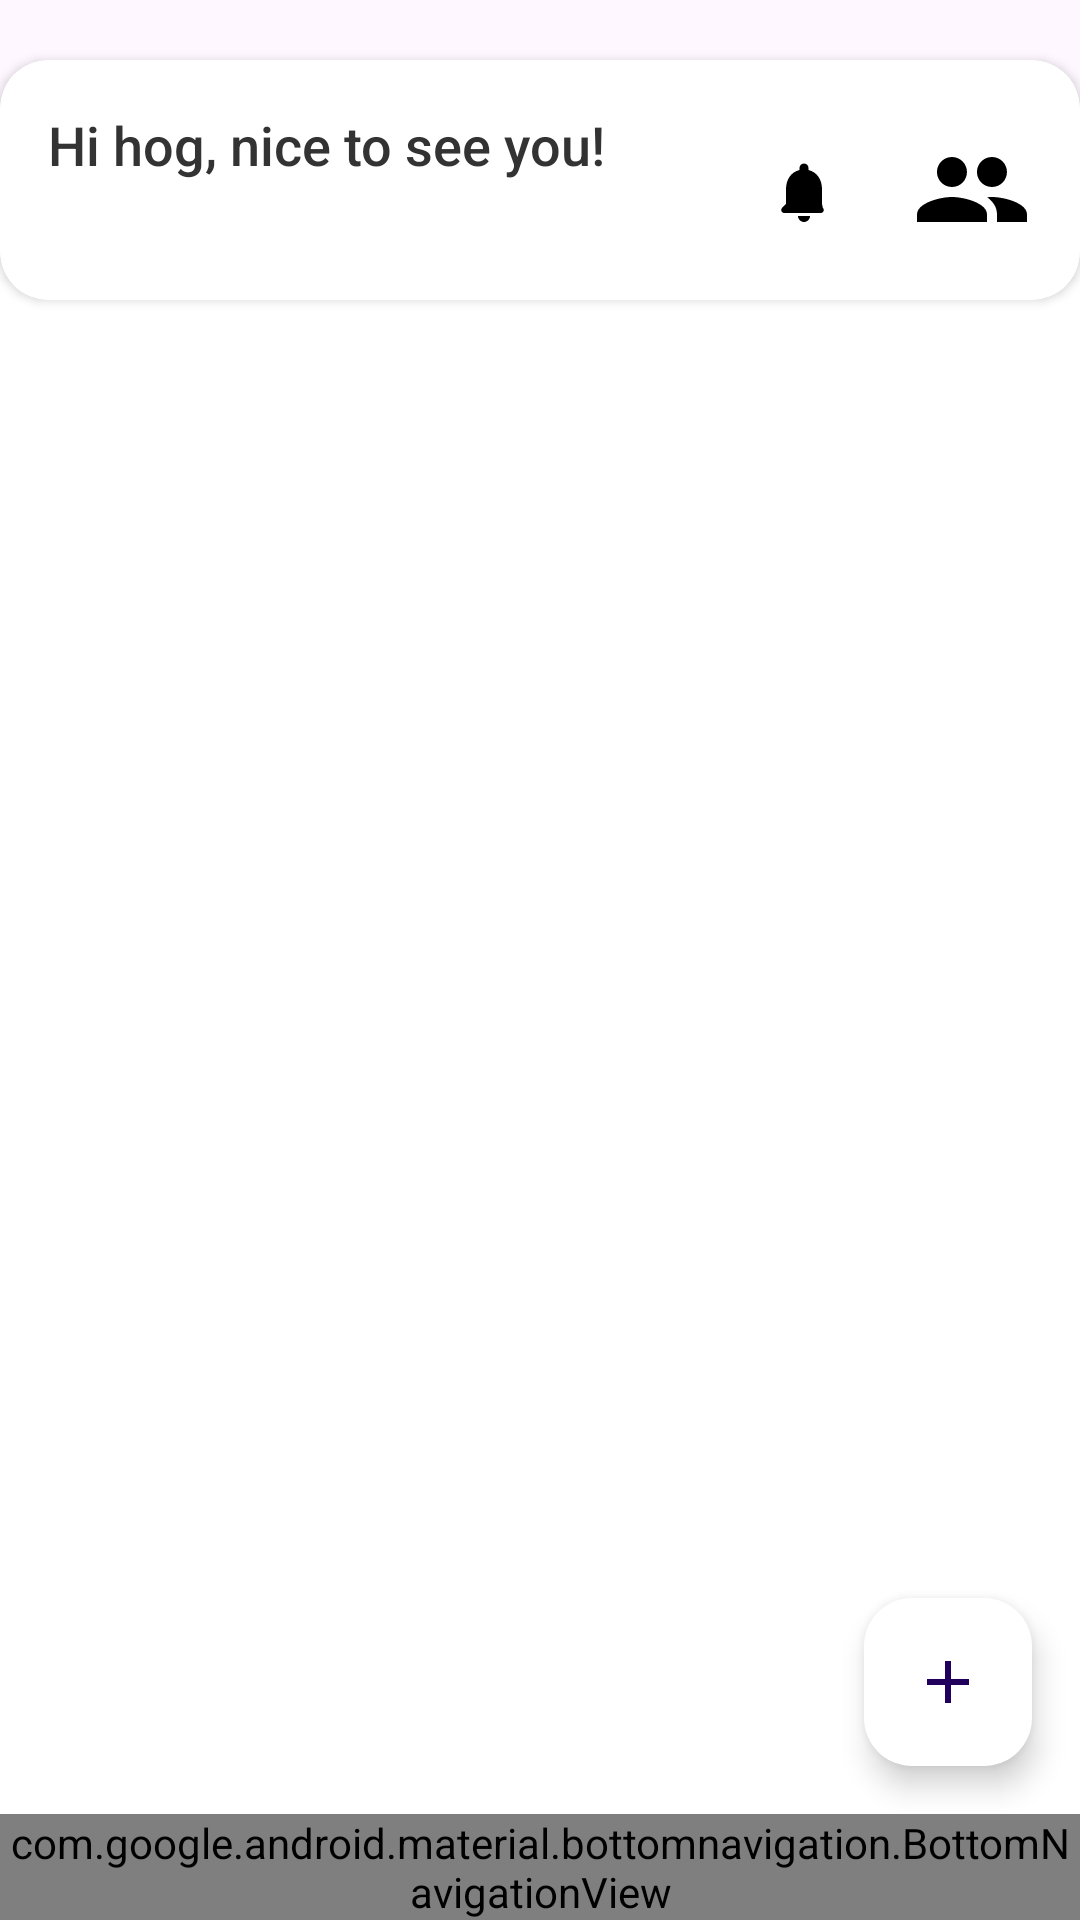

Icons on this 1080w x 1920h Android screen, each with its box as (x1, y1, x2, y2):
add: (870, 1661, 1032, 1766)
bell: (781, 163, 824, 222)
